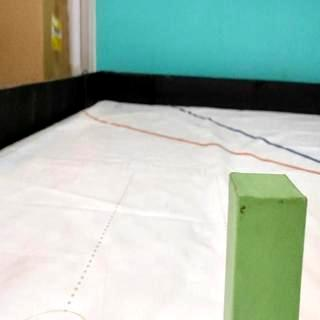greenbox: (223, 170, 308, 320)
